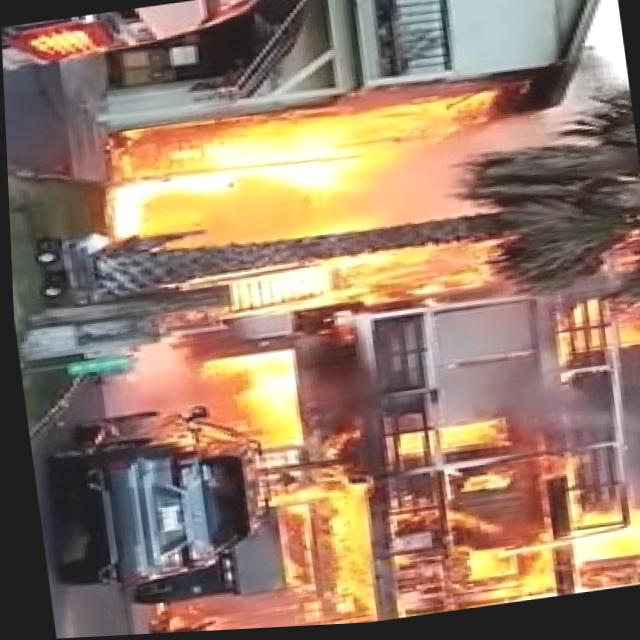fire: (113, 96, 493, 251), (304, 488, 405, 628), (209, 350, 305, 465)
